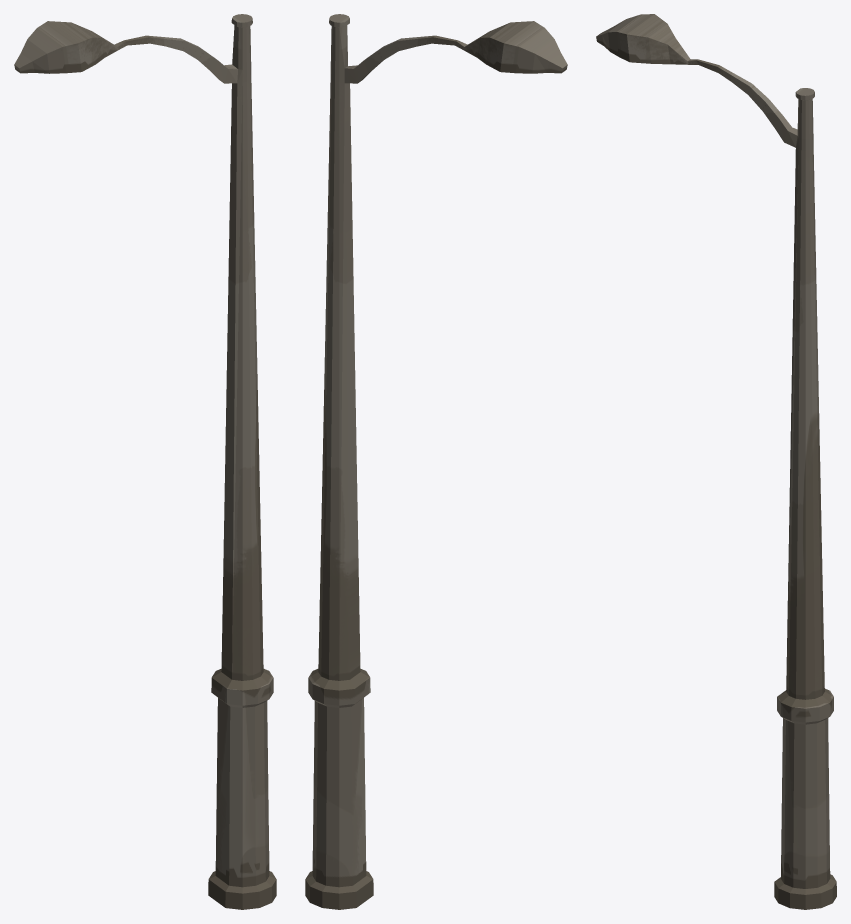
Rendered from LampOne.FBX.
3 views of the same model, side by side, from view 1: azimuth 30°, elevation 25°; view 2: azimuth 150°, elevation 25°; view 3: azimuth 330°, elevation 25° (orthographic). The views are drawn at different scales.
Parts seen in each view (by area): view 1: Object001; view 2: Object001; view 3: Object001.
Boxes of the visible parts, bbox=[...] form: Object001: bbox=[14, 14, 276, 909]; Object001: bbox=[305, 14, 567, 909]; Object001: bbox=[596, 14, 836, 909].
Size of the model in its own units: 5994 by 20340 by 1391.
